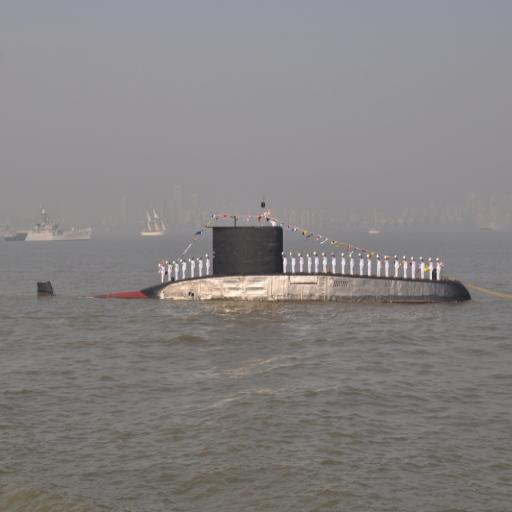submarine: (38, 221, 479, 300)
